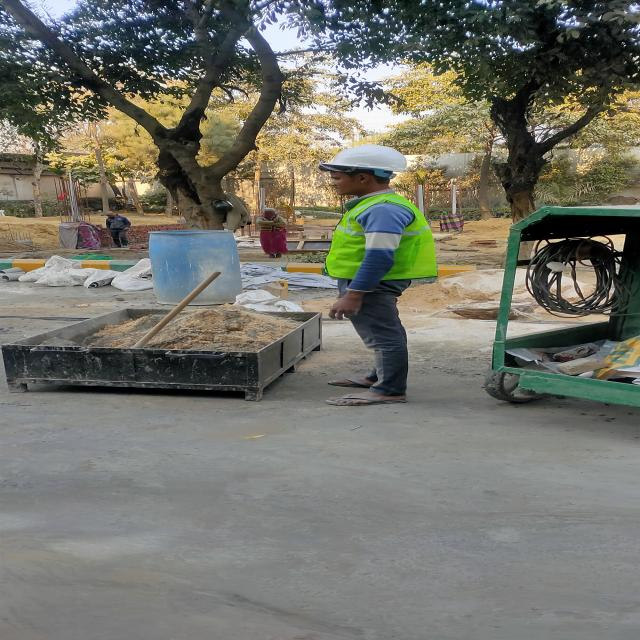safe: (321, 146, 440, 406)
unsafe: (258, 208, 287, 258), (106, 212, 130, 248)
